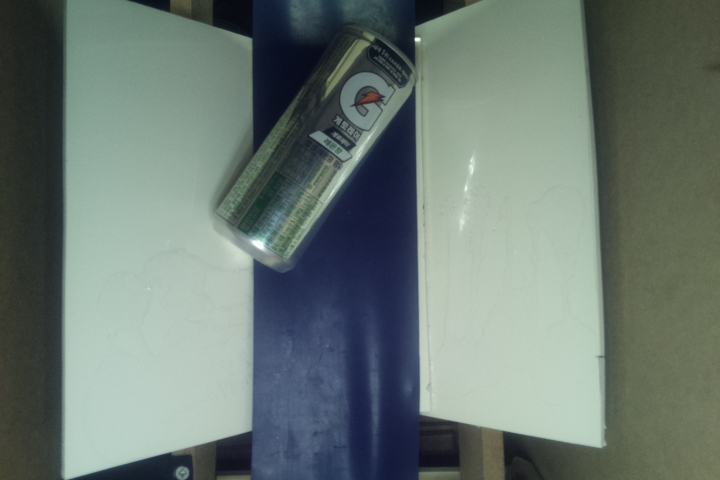can: (215, 24, 420, 277)
